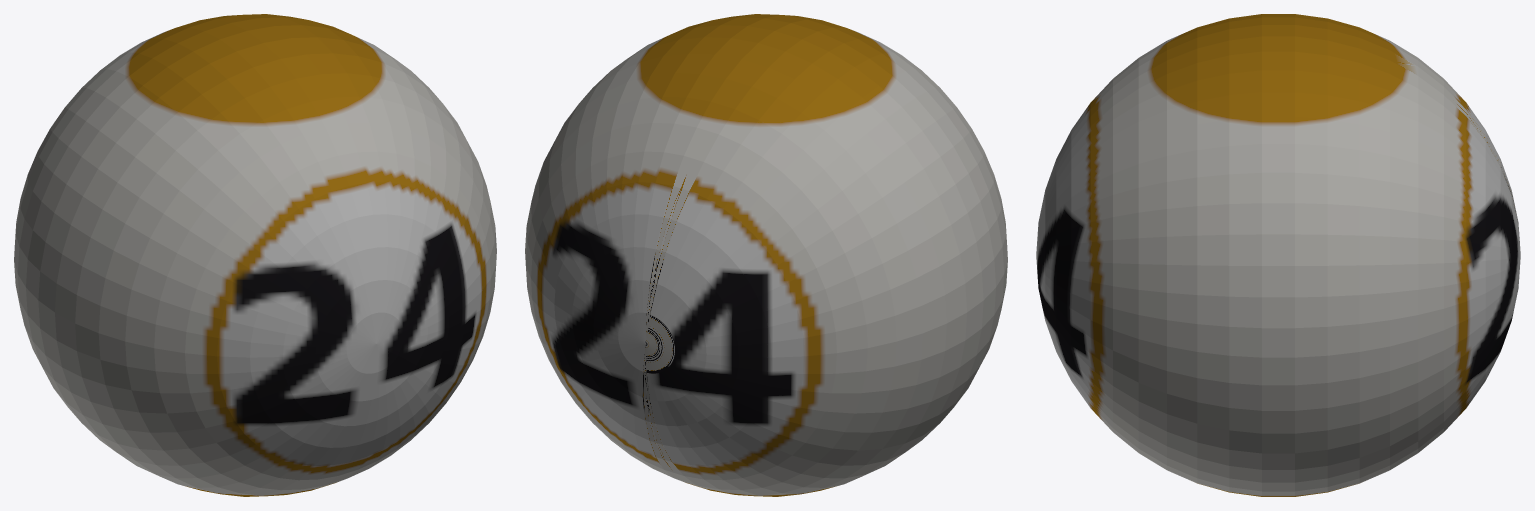
3 views of the same model, side by side, from view 1: azimuth 30°, elevation 25°; view 2: azimuth 150°, elevation 25°; view 3: azimuth 270°, elevation 25° (orthographic).
Visible parts, largest first — view 1: geometry_0; view 2: geometry_0; view 3: geometry_0.
Boxes of the visible parts, <box> form: geometry_0: <box>14,14,496,496</box>; geometry_0: <box>525,14,1007,496</box>; geometry_0: <box>1036,14,1520,496</box>.
Bounding box in the file's own units: 0.0599 × 0.0599 × 0.06.
1 material, 1 textured.
